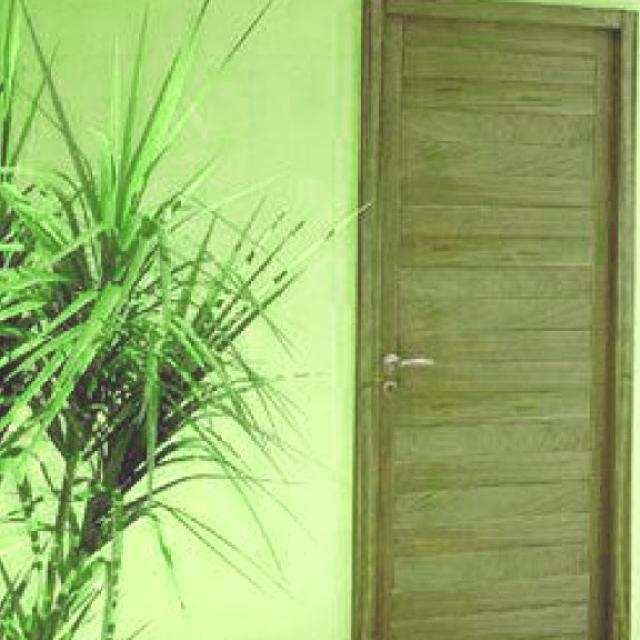door: (353, 0, 637, 639)
